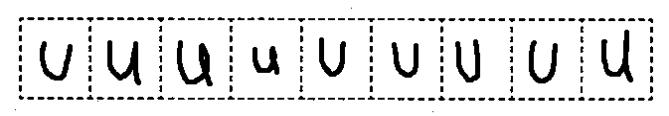U: (171, 38, 223, 92), (99, 35, 148, 90), (596, 26, 638, 87), (449, 35, 489, 89), (521, 37, 564, 85), (311, 33, 353, 81), (385, 34, 425, 82), (34, 38, 75, 84), (244, 41, 285, 84)
